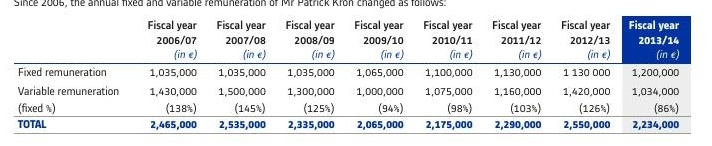table: (0, 0, 712, 146)
